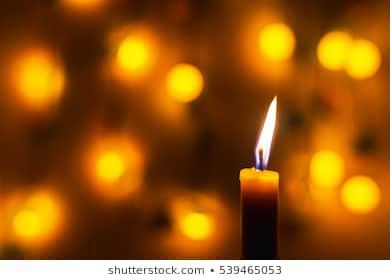fire: (5, 47, 64, 108), (252, 92, 279, 167)
